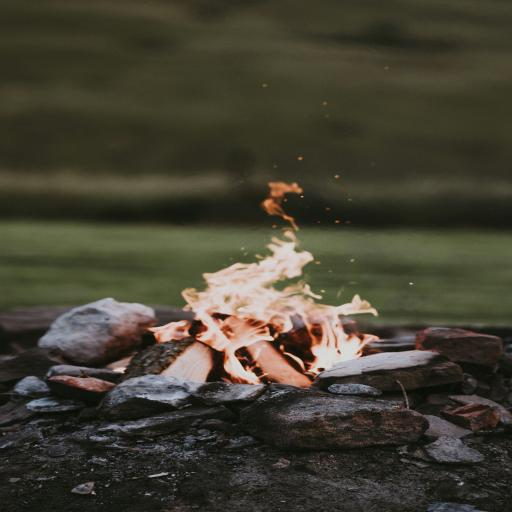campfire: (118, 156, 458, 432)
